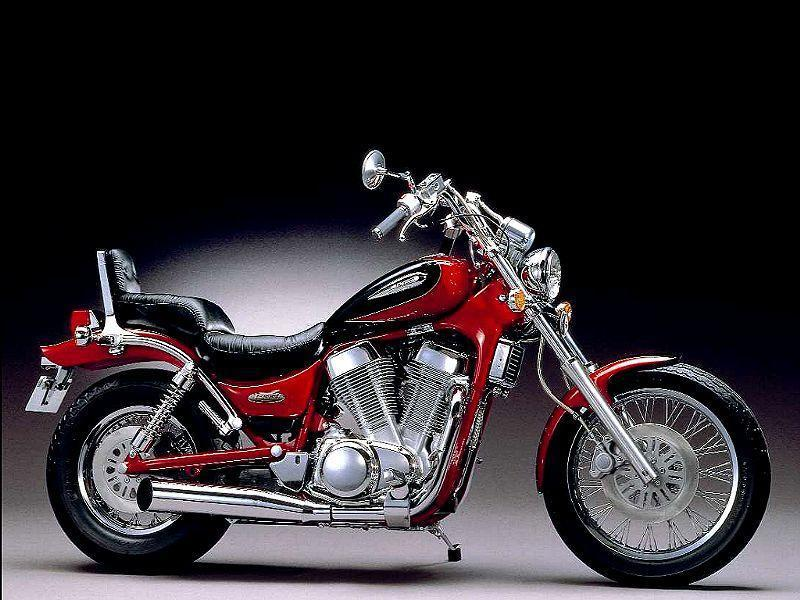motorcycle: (20, 123, 778, 596)
